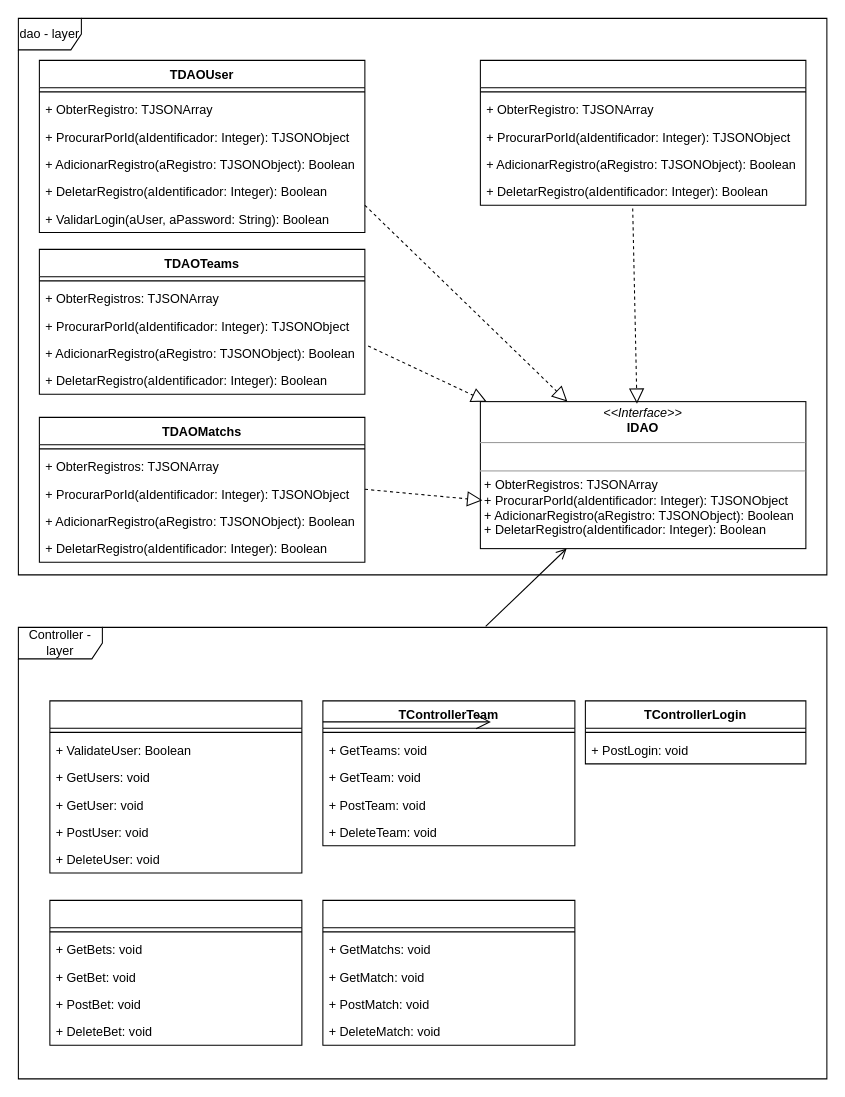
This 845x1097 diagram has some shape labels left out. The box of each missing label's shape, as (x1, y1, x2, y2) in pixels:
TControllerBet: (49, 899, 302, 1045)
TControllerMatch: (322, 899, 575, 1045)
TControllerUser: (49, 700, 302, 873)
TDAOBets: (479, 59, 806, 205)
